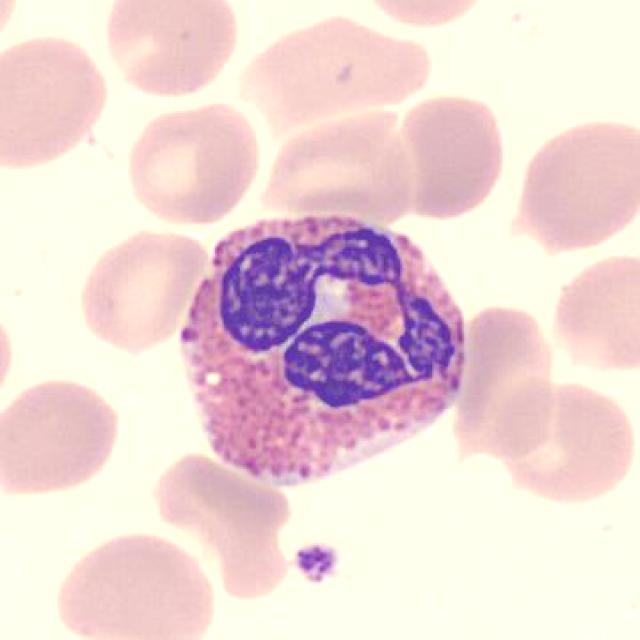Platelets: (290, 540, 341, 587)
RBC: (237, 9, 436, 132), (254, 102, 428, 226), (46, 523, 222, 640), (73, 226, 215, 356), (496, 379, 638, 508), (121, 101, 263, 229), (508, 113, 636, 254), (450, 298, 560, 460), (375, 90, 510, 222), (0, 28, 112, 175), (2, 372, 126, 499), (99, 0, 243, 100), (547, 245, 640, 379), (350, 0, 494, 33)
